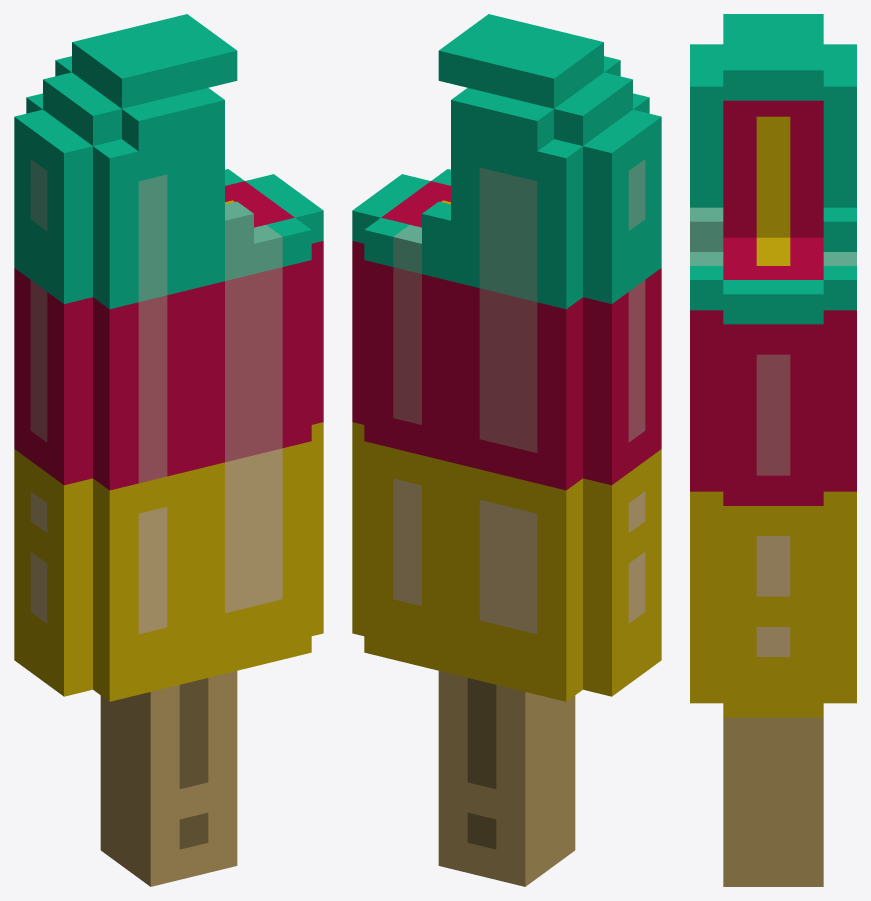
Rendered from lv24 icecream.fbx.
The picture shows the model from 3 angles, left to right: view 1: azimuth 30°, elevation 25°; view 2: azimuth 150°, elevation 25°; view 3: azimuth 270°, elevation 25°; orthographic projection.
Visible parts, largest first — view 1: pCube5291, pCube5280, pCube5342, pCube5351, pCube5361, pCube5052, pCube167, pCube188, pCube4982, pCube5133, pCube5208, pCube5028 (+154 smaller); view 2: pCube5314, pCube5313, pCube5322, pCube5356, pCube5362, pCube5053, pCube178, pCube196, pCube4981, pCube5150, pCube5241, pCube5025 (+154 smaller); view 3: pCube5473, pCube5370, pCube5232, pCube5233, pCube5452, pCube5456, pCube5472, pCube5474, pCube5195, pCube5234, pCube5470, pCube5471 (+128 smaller).
Boxes of the visible parts, bbox=[...] form: pCube5291: bbox=[47, 134, 92, 183]; pCube5280: bbox=[93, 139, 138, 188]; pCube5342: bbox=[122, 102, 167, 151]; pCube5351: bbox=[105, 59, 150, 108]; pCube5361: bbox=[76, 97, 121, 145]; pCube5052: bbox=[47, 533, 92, 575]; pCube167: bbox=[134, 784, 179, 826]; pCube188: bbox=[134, 814, 179, 856]; pCube4982: bbox=[47, 654, 92, 696]; pCube5133: bbox=[93, 418, 138, 460]; pCube5208: bbox=[93, 267, 138, 309]; pCube5028: bbox=[93, 569, 138, 611]; pCube5314: bbox=[583, 134, 628, 183]; pCube5313: bbox=[537, 139, 582, 188]; pCube5322: bbox=[508, 102, 553, 151]; pCube5356: bbox=[525, 59, 570, 108]; pCube5362: bbox=[554, 97, 599, 145]; pCube5053: bbox=[583, 533, 628, 575]; pCube178: bbox=[496, 784, 541, 826]; pCube196: bbox=[496, 814, 541, 856]; pCube4981: bbox=[583, 654, 628, 696]; pCube5150: bbox=[537, 418, 582, 460]; pCube5241: bbox=[537, 267, 582, 309]; pCube5025: bbox=[537, 569, 582, 611]; pCube5473: bbox=[756, 56, 790, 100]; pCube5370: bbox=[756, 280, 790, 324]; pCube5232: bbox=[790, 280, 823, 324]; pCube5233: bbox=[723, 280, 756, 324]; pCube5452: bbox=[690, 72, 723, 116]; pCube5456: bbox=[823, 72, 856, 116]; pCube5472: bbox=[723, 56, 756, 100]; pCube5474: bbox=[790, 56, 823, 100]; pCube5195: bbox=[823, 266, 856, 310]; pCube5234: bbox=[690, 266, 723, 310]; pCube5470: bbox=[690, 207, 723, 251]; pCube5471: bbox=[823, 207, 856, 251].
Bounding box in the file's own units: 9 × 27 × 5.
